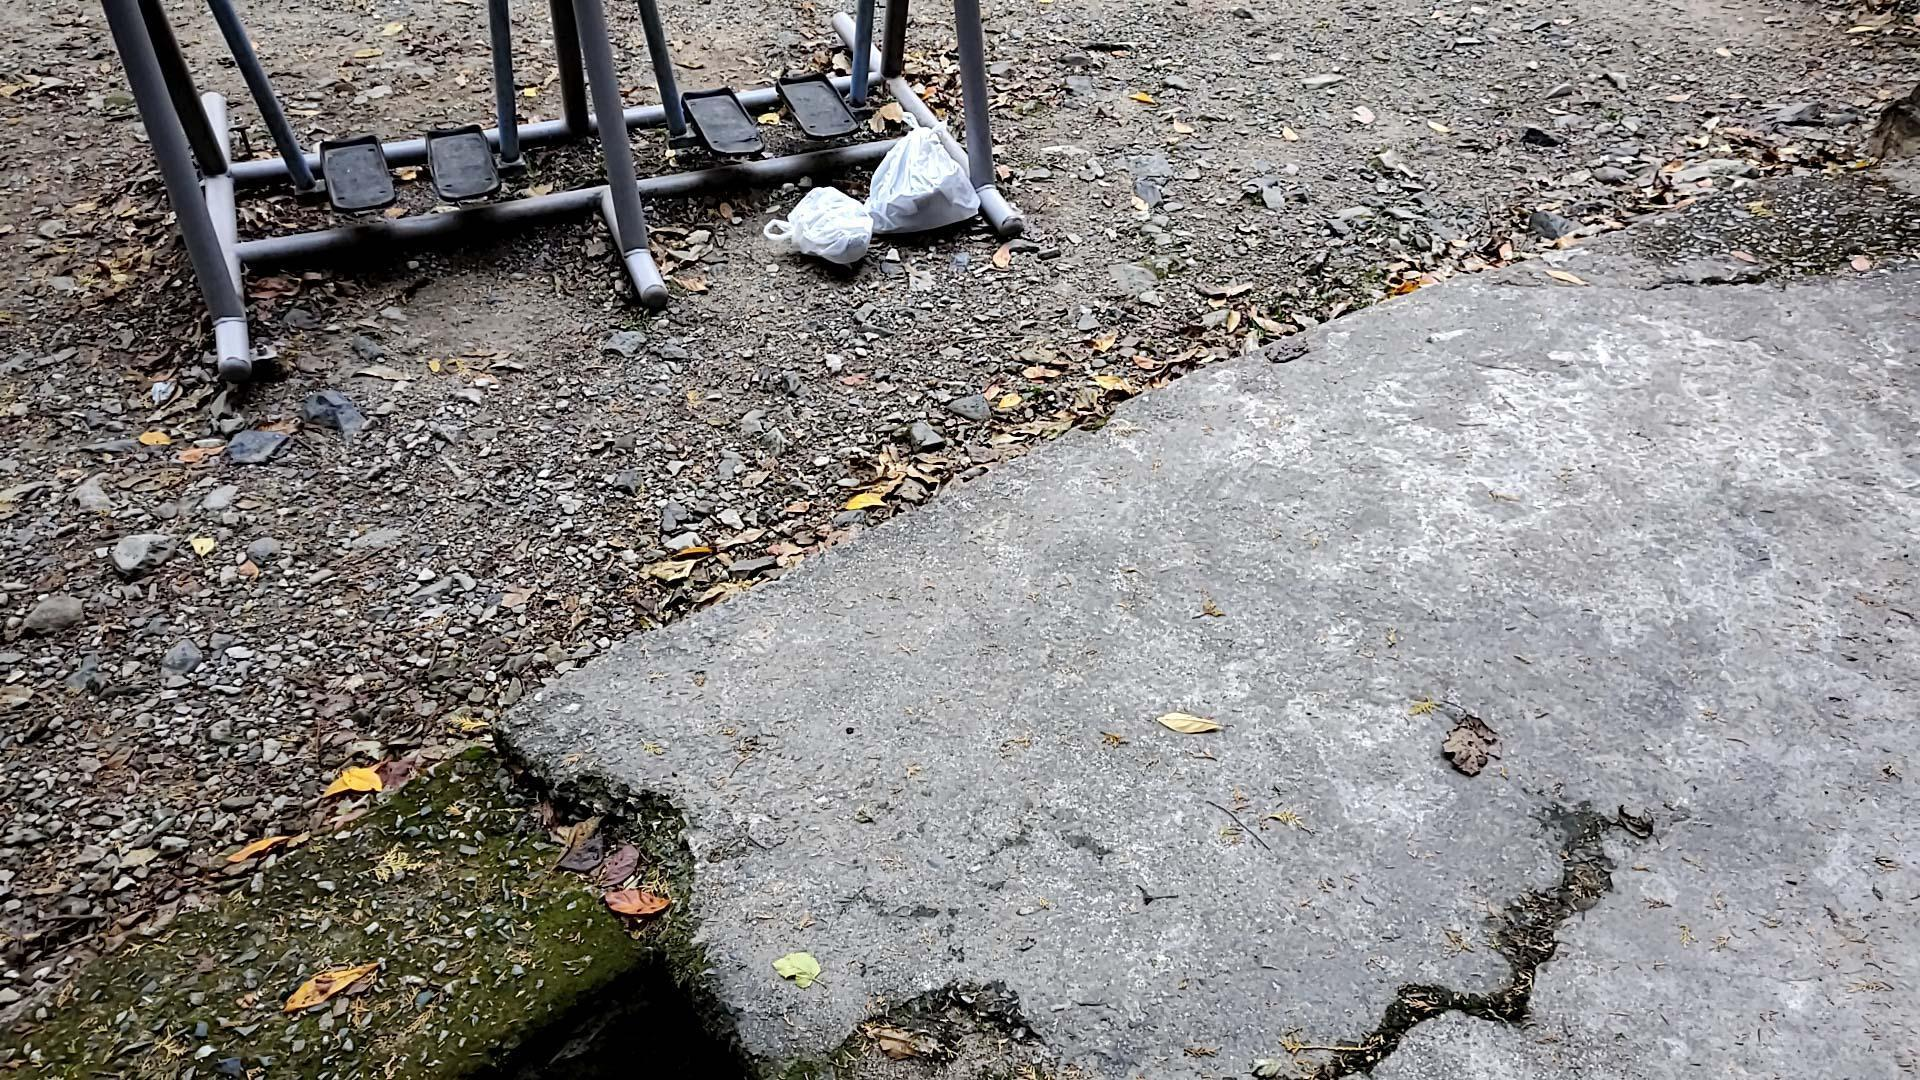white_bag: (865, 109, 989, 237), (756, 179, 877, 266)
